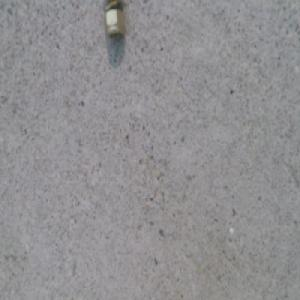BoltNutSet: (104, 0, 124, 42)
